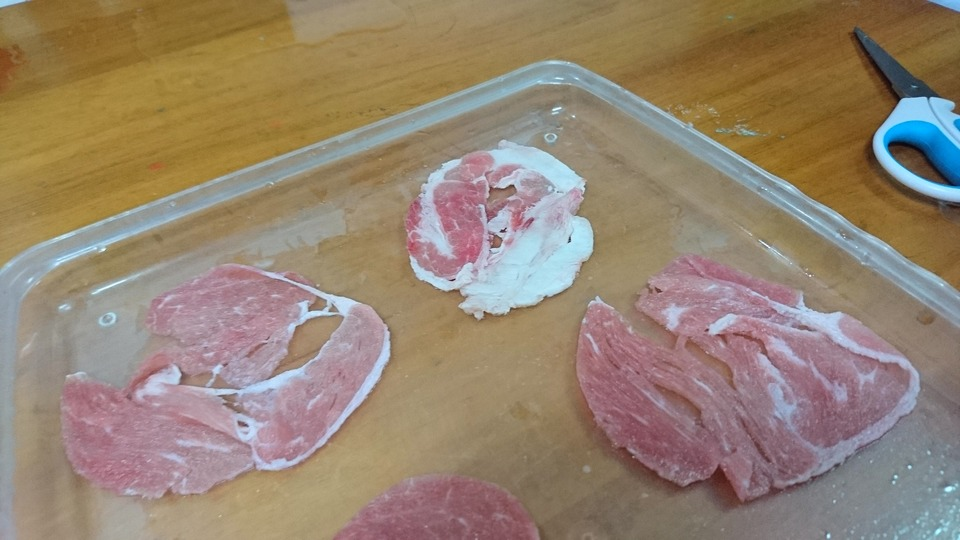restructured meat: (556, 282, 935, 502), (43, 268, 414, 483), (392, 136, 604, 312), (351, 472, 557, 537)
